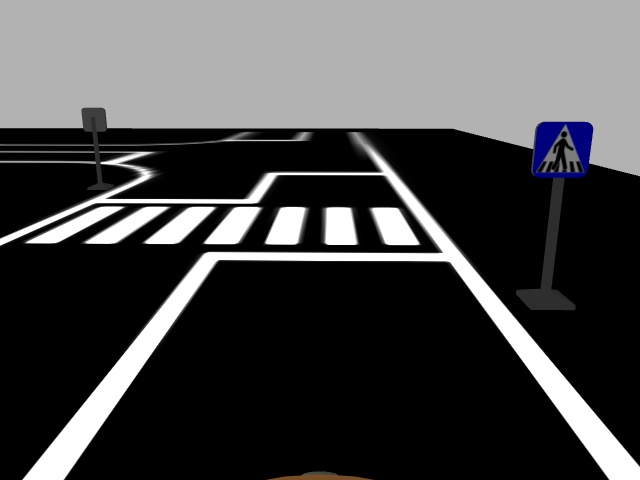crosswalk: (529, 119, 596, 180)
